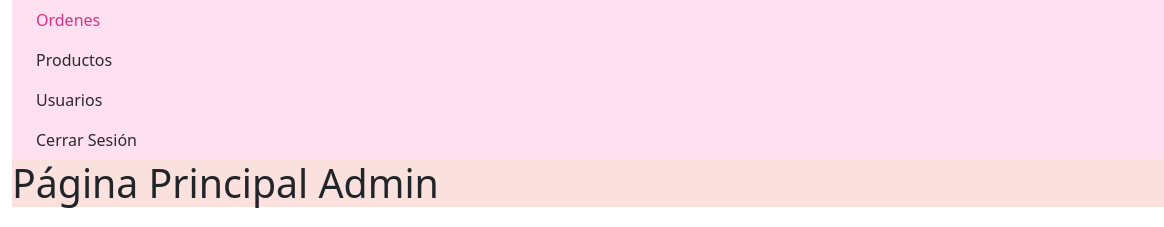
Test: AdmNav.jsx › navega a la página de productos de admin al hacer click en el link
Expected: the heading "Página Principal Admin" is shown, top-left (12, 156), bottom-right (439, 210)
Click the link "Productos". click: (74, 60)
box: top-left (36, 49), bottom-right (112, 71)
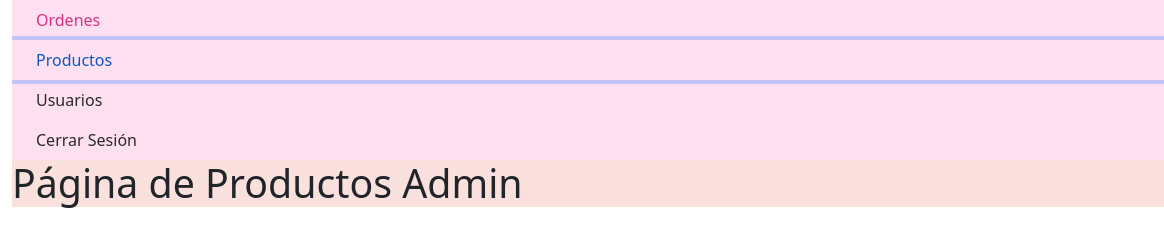
Now the heading "Página de Productos Admin" is shown, box top-left (12, 156), bottom-right (523, 210)
